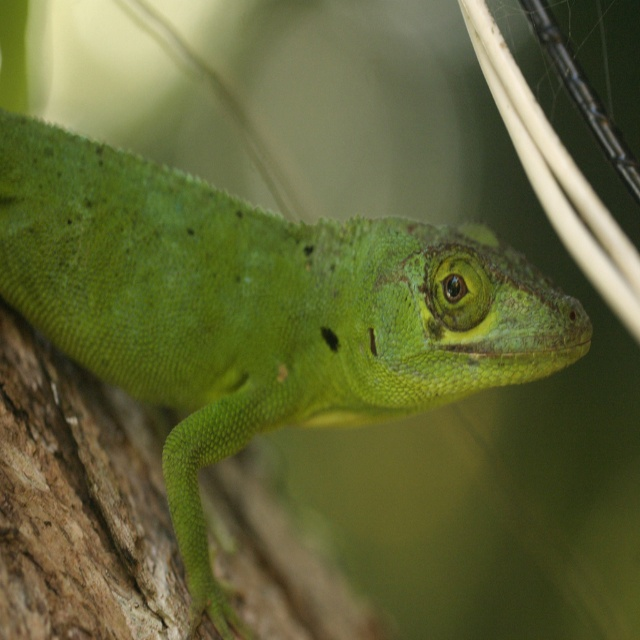Lizard: (0, 106, 593, 640)
